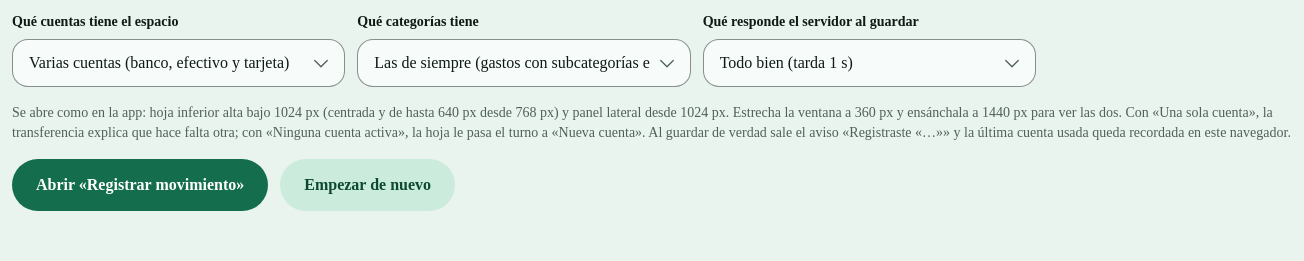
MovementSheetDemo › hands over to 'Nueva cuenta' when no account is active
Select "Ninguna cuenta activa (abre «Nueva cuenta»)" in the dropdown labelled "Qué cuentas tiene el espacio" at x=179, y=63, box [12,39,345,87]
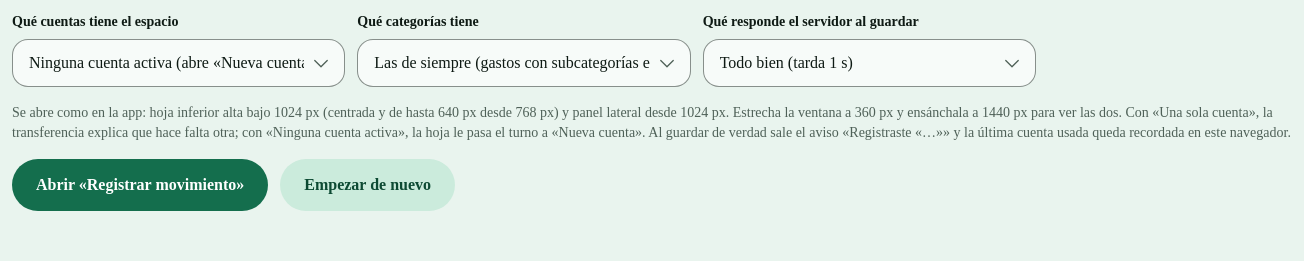
Click the button "Abrir «Registrar movimiento»" at x=140, y=185, box [12,159,268,211]
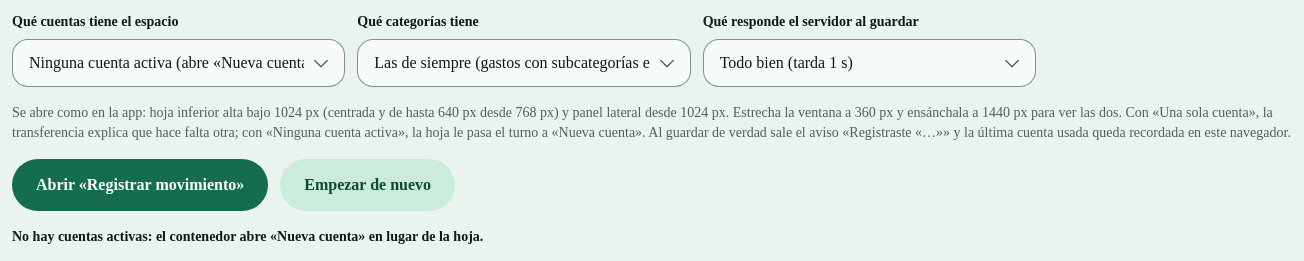
Now the text "No hay cuentas activas: el contenedor abre «Nueva cuenta» en lugar de la hoja." is shown, box [12,229,483,244]
